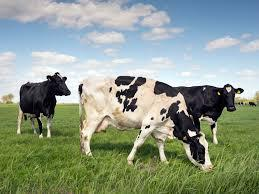cow: (79, 76, 216, 173), (174, 83, 243, 138), (18, 72, 70, 138)
